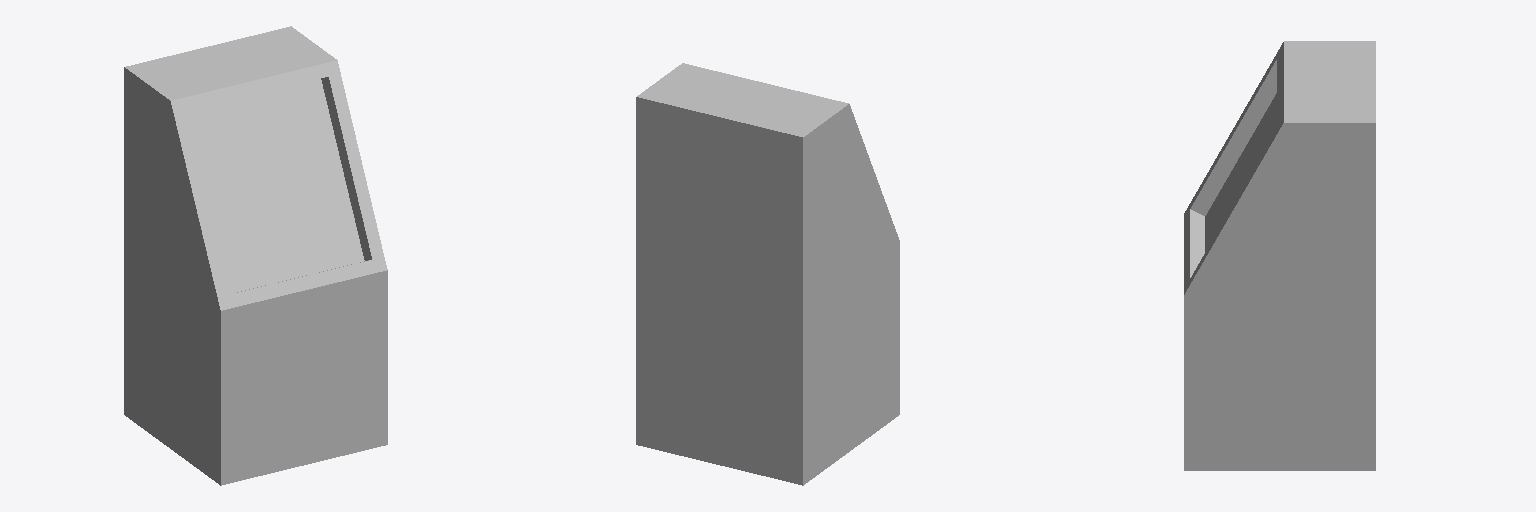
File: Avtomat1.obj
3 views of the same model, side by side, from view 1: azimuth 30°, elevation 25°; view 2: azimuth 150°, elevation 25°; view 3: azimuth 270°, elevation 25° (orthographic).
Visible parts, largest first — view 1: Cube; view 2: Cube; view 3: Cube.
Boxes of the visible parts, box(x1,y1,x2,y2) form: Cube: box(124, 26, 387, 485); Cube: box(636, 63, 899, 485); Cube: box(1184, 41, 1375, 470).
Bounding box in the file's own units: 2 × 3.98 × 2.